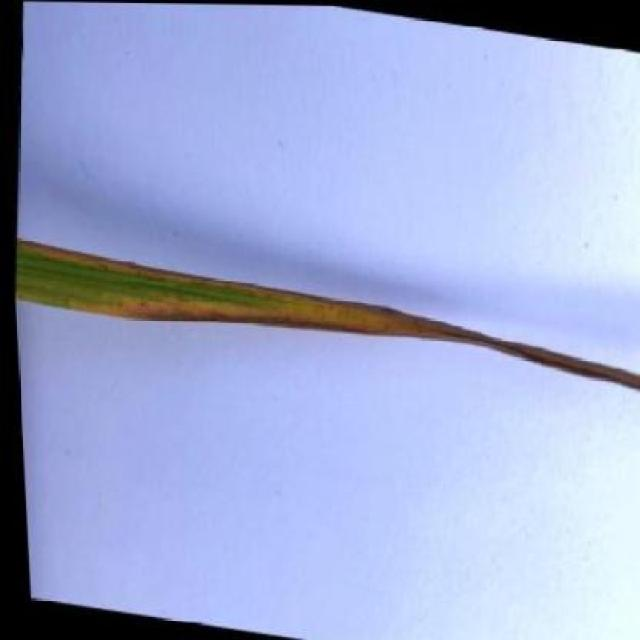Rice False Smut: (13, 238, 640, 390)
